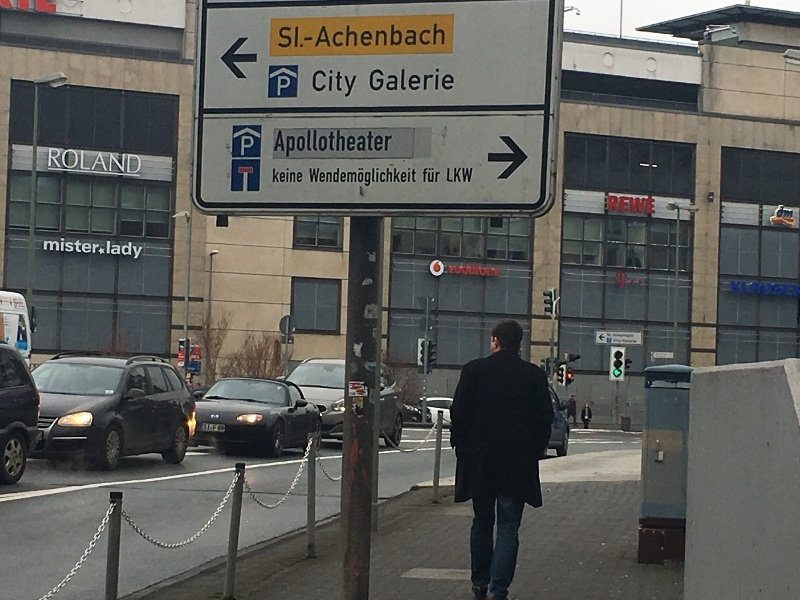text: (321, 70, 336, 99), (337, 70, 352, 99), (49, 148, 64, 175), (65, 148, 80, 175), (81, 148, 96, 175), (97, 148, 112, 175), (113, 148, 128, 175), (289, 22, 304, 49), (305, 22, 320, 49), (321, 22, 336, 49), (337, 22, 352, 49), (353, 22, 368, 49), (369, 22, 384, 49), (385, 22, 400, 49), (401, 22, 416, 49), (417, 22, 432, 49), (289, 130, 304, 157), (305, 130, 320, 157), (321, 130, 336, 157), (337, 130, 352, 157), (353, 130, 368, 157), (369, 130, 384, 157), (129, 148, 142, 175), (433, 22, 446, 49), (385, 68, 400, 91), (401, 68, 416, 91), (417, 68, 432, 91), (433, 68, 448, 91), (129, 240, 145, 261), (401, 167, 417, 188), (370, 68, 384, 91), (113, 240, 128, 261), (321, 167, 336, 188), (337, 167, 352, 188), (353, 167, 368, 188), (369, 167, 384, 188), (385, 167, 400, 188), (241, 137, 256, 157), (609, 196, 624, 215), (625, 196, 640, 215), (641, 196, 656, 215), (737, 280, 752, 298), (753, 280, 768, 298), (769, 280, 784, 298), (785, 280, 800, 298), (278, 130, 288, 157), (49, 238, 64, 255), (65, 238, 80, 255), (81, 238, 96, 255), (273, 167, 288, 184), (449, 166, 464, 183), (279, 22, 288, 49), (289, 167, 303, 184), (277, 76, 288, 97), (309, 167, 320, 188), (385, 130, 393, 157), (313, 70, 320, 99), (449, 264, 464, 277), (465, 264, 480, 277), (481, 264, 496, 277), (353, 70, 359, 99), (422, 166, 432, 183), (615, 271, 624, 288), (433, 166, 442, 183), (465, 166, 474, 183), (449, 68, 455, 91), (106, 240, 112, 261), (729, 280, 736, 298), (785, 206, 794, 219), (209, 424, 225, 431), (777, 206, 784, 219), (43, 238, 48, 255), (97, 238, 101, 255), (625, 271, 628, 288), (625, 339, 637, 343), (613, 334, 624, 338), (613, 339, 624, 343), (289, 76, 291, 97), (497, 264, 500, 277), (625, 334, 634, 338), (203, 424, 208, 431), (446, 166, 448, 183), (193, 355, 200, 359), (13, 299, 16, 308), (179, 353, 192, 355), (179, 356, 192, 358), (447, 264, 448, 277), (609, 333, 612, 337), (17, 299, 18, 308), (622, 339, 624, 343), (609, 339, 611, 342), (191, 355, 192, 359), (607, 333, 608, 337)
